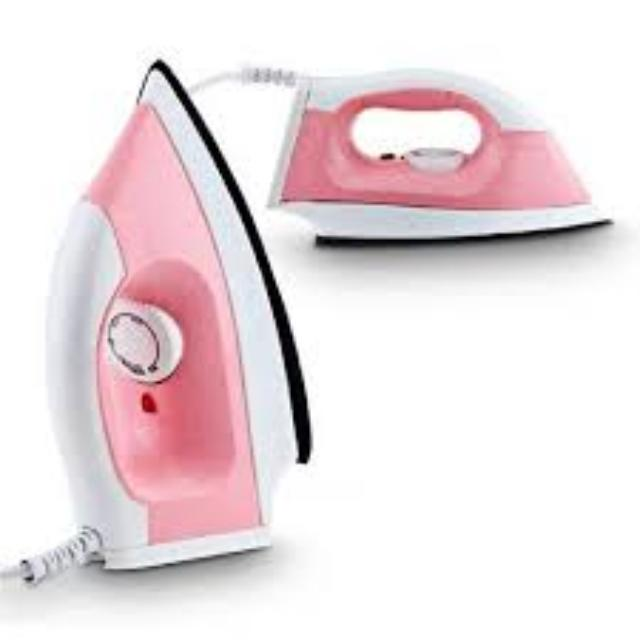Clothes-Iron: (52, 49, 528, 605)
